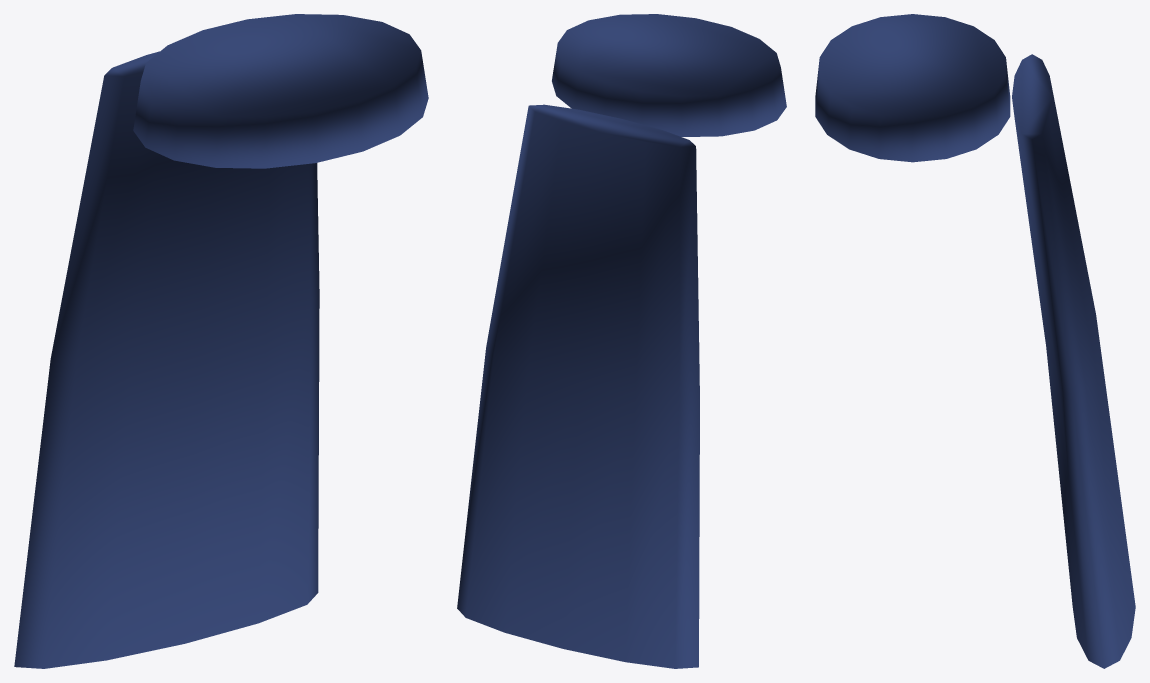
The model's file is anime_apron.glb.
3 views of the same model, side by side, from view 1: azimuth 30°, elevation 25°; view 2: azimuth 150°, elevation 25°; view 3: azimuth 270°, elevation 25° (orthographic). The views are drawn at different scales.
Visible parts, largest first — view 1: apron, waist; view 2: apron, waist; view 3: apron, waist.
Boxes of the visible parts, x1=… form: apron: x1=14, y1=51, x2=319, y2=668; waist: x1=133, y1=14, x2=428, y2=168; apron: x1=457, y1=104, x2=699, y2=668; waist: x1=552, y1=14, x2=786, y2=136; apron: x1=1012, y1=54, x2=1135, y2=668; waist: x1=815, y1=14, x2=1010, y2=162.
Size of the model in its own units: 0.26 by 0.53 by 0.2847.
